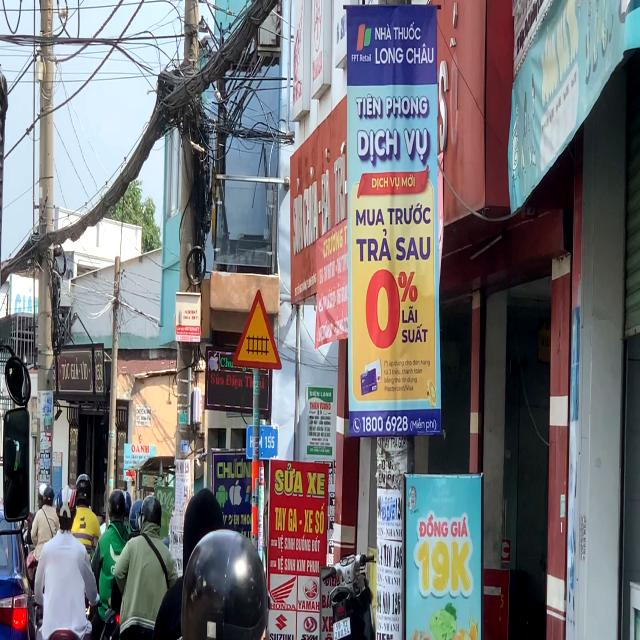W.210: (230, 277, 286, 370)
